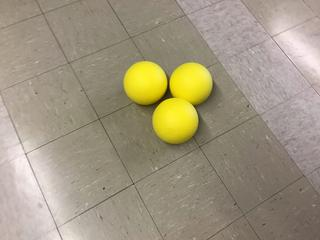power_cell: (152, 97, 203, 145), (169, 59, 216, 107), (121, 59, 168, 105)
